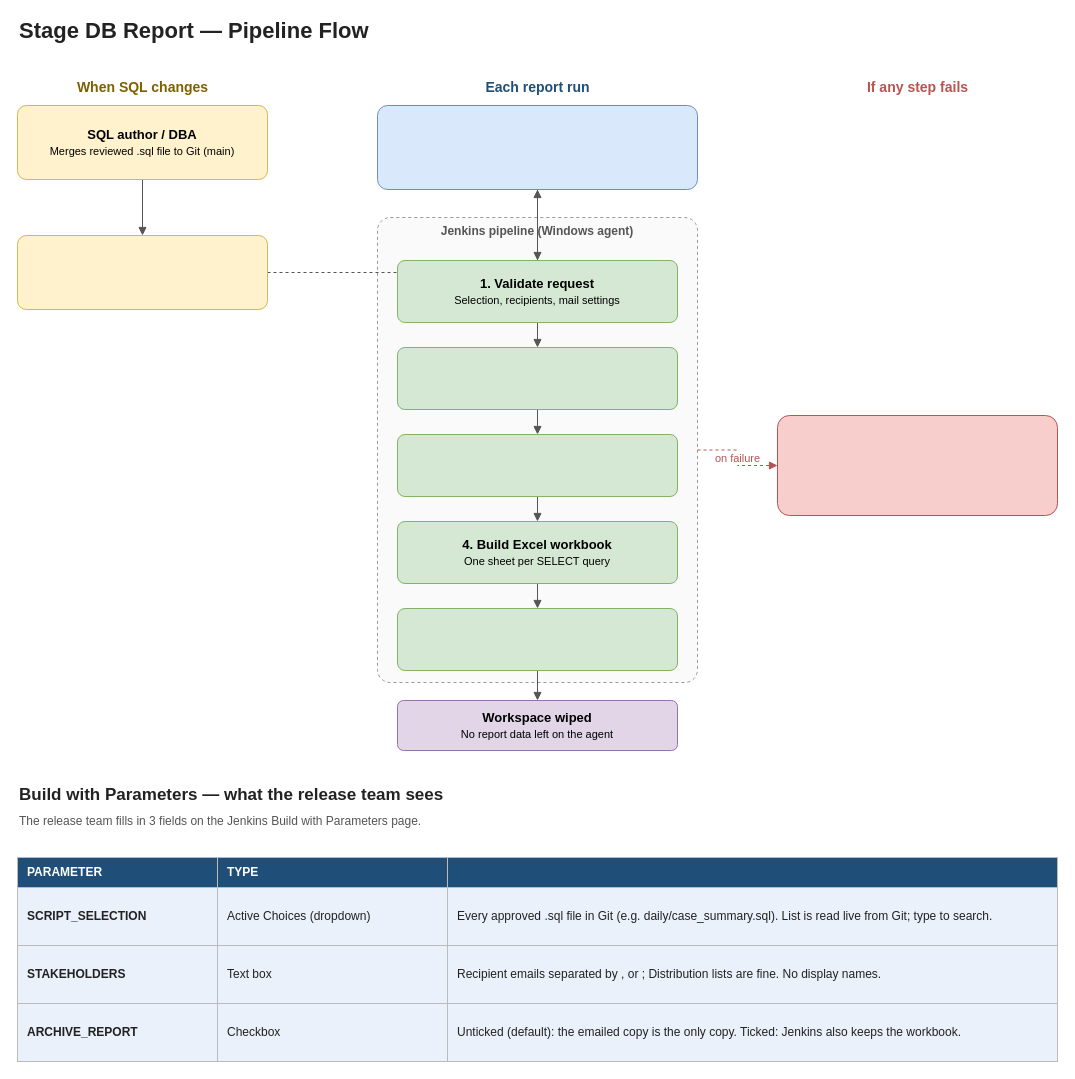
This 1075x1079 diagram has some shape labels left out. The shapes that lost their labels are listed below. From the top down, each one's centre as x and y in pixels, then its label:
(537,147): Release team: Build with Parameters Pick SQL report + enter recipient emails
(142,272): Report dropdown Reads the .sql list from Git live
(537,378): 2. Fetch SQL from Git Exact approved revision
(537,465): 3. Run query on Stage DB2 Read-only service account over TLS
(917,465): Failure email to support DL No attachment. Build marked FAILED.
(537,639): 5. Email workbook Sent to the recipients entered
(752,872): OPTIONS / WHAT TO ENTER
